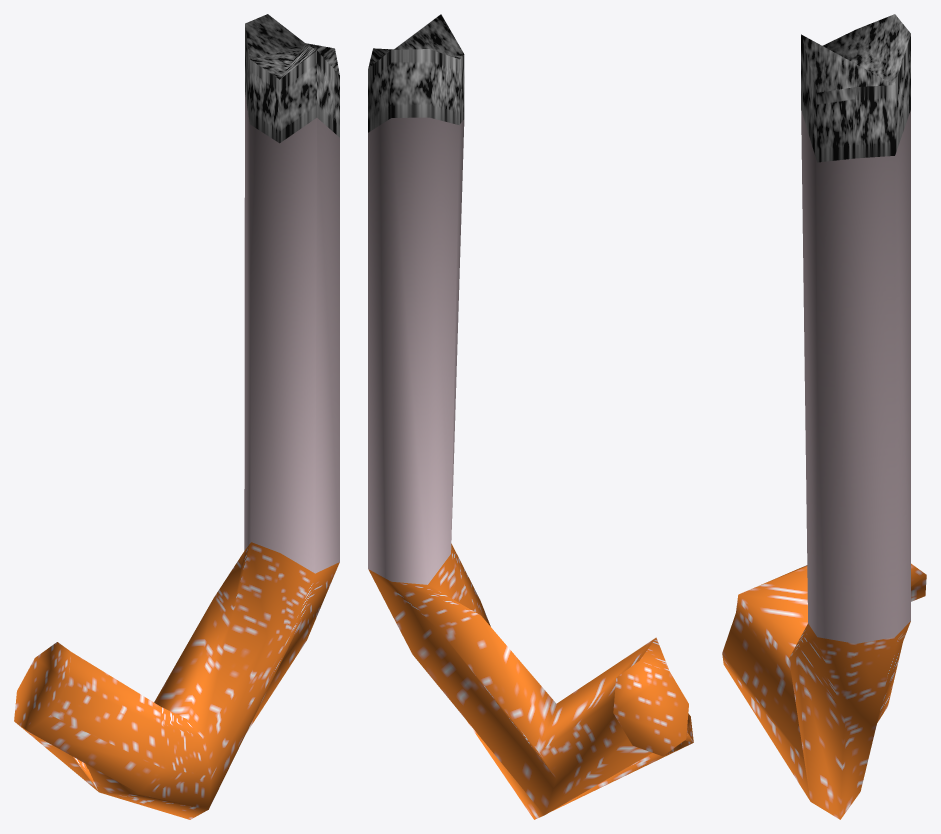
The model's file is Zigarette_Verbrannt.fbx.
3 renders of one model, left to right at view 1: azimuth 30°, elevation 25°; view 2: azimuth 150°, elevation 25°; view 3: azimuth 270°, elevation 25°, orthographic. The views are drawn at different scales.
Parts seen in each view (by area): view 1: Zigarette_verbrannt; view 2: Zigarette_verbrannt; view 3: Zigarette_verbrannt.
Boxes of the visible parts, x1,y1,x2,y2 form: Zigarette_verbrannt: [14, 14, 339, 819]; Zigarette_verbrannt: [368, 14, 693, 819]; Zigarette_verbrannt: [722, 14, 926, 819].
Bounding box in the file's own units: 2.95 × 6.94 × 1.51.
